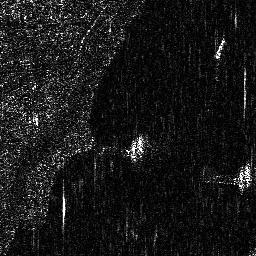ship: (215, 37, 225, 60)
